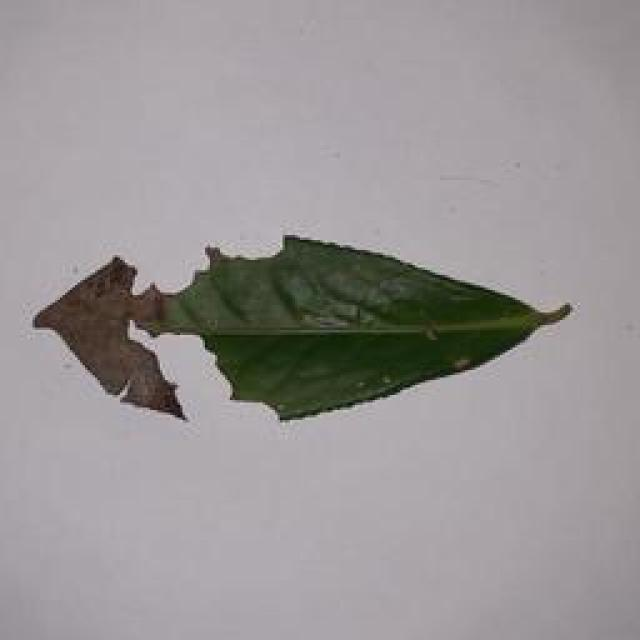Brown Blight: (19, 204, 568, 443)
